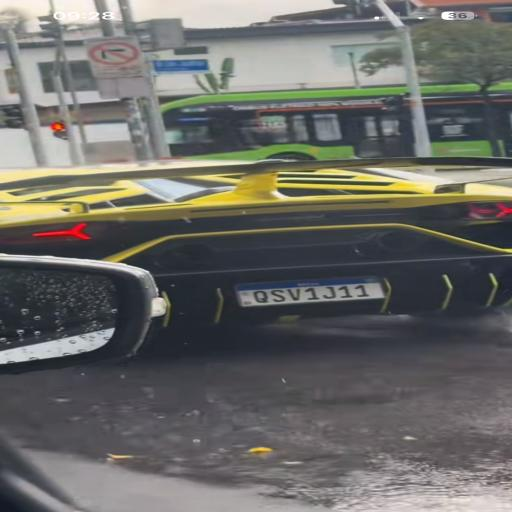detec-o-placas: (170, 252, 412, 324)
